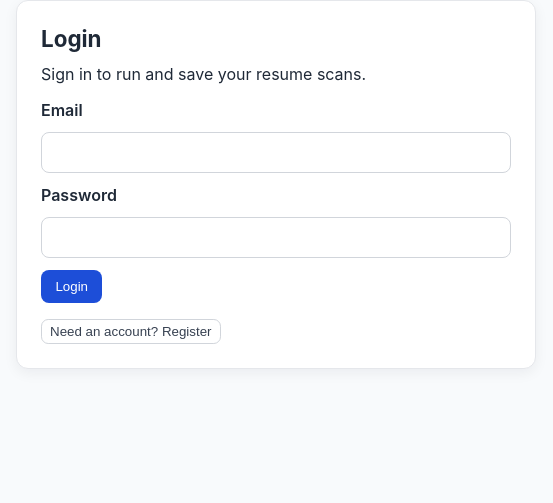
Test: LoginPage › switches to registration and shows the rejected register message
This screenshot has width=553, height=503.
Expected: the field labelled "Full Name" is not shown
Click the button "Need an account? Register". click: (131, 332)
box: [41,319,220,344]
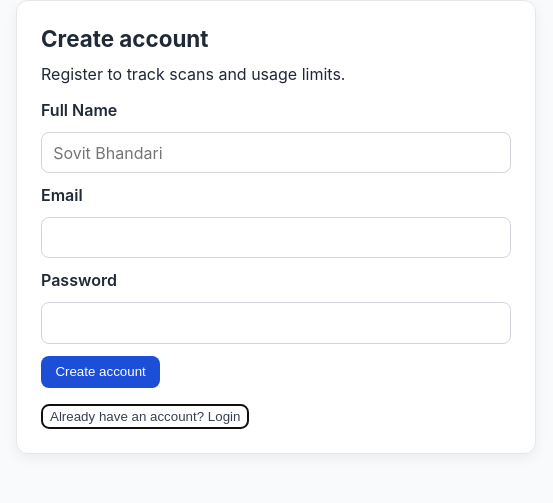
Type "Synthetic User" into the field labelled "Full Name". click: (276, 153)
box: [41,132,511,173]
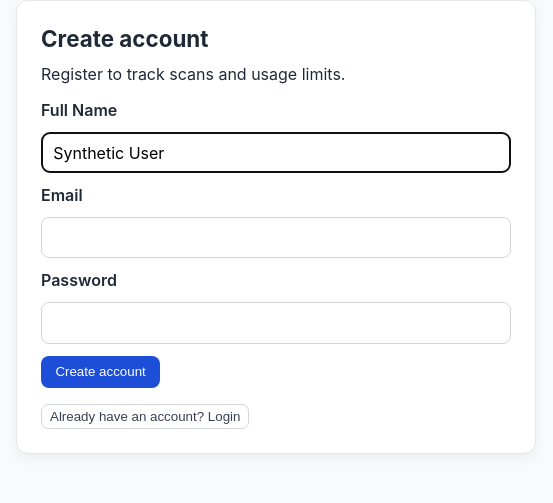
Type "owner@example.com" into the field labelled "Email". click: (276, 238)
box: [41,217,511,258]
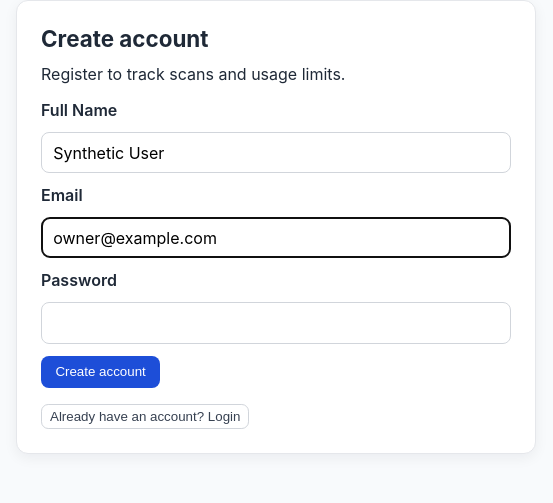
Type "password123" into the password field labelled "Password". click: (276, 323)
box: [41,302,511,344]
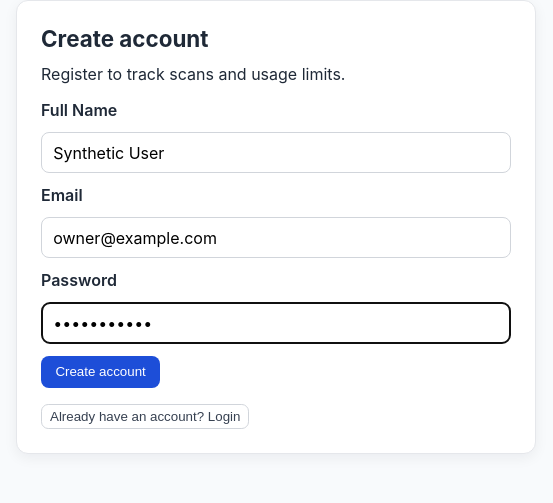
Click the button "Create account". click: (101, 372)
box: [41,356,160,388]
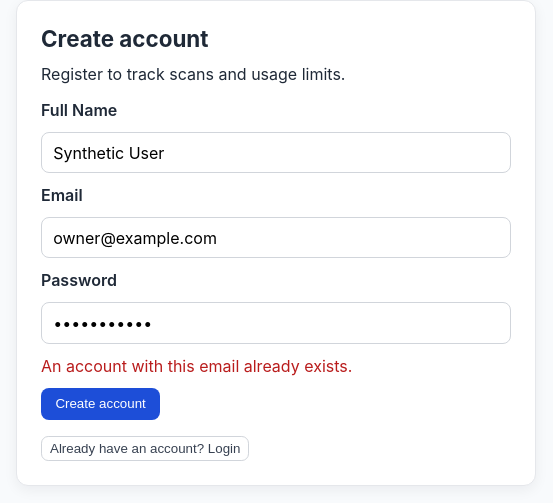
Now the text "An account with this email already exists." is shown, box [41,356,352,376]
